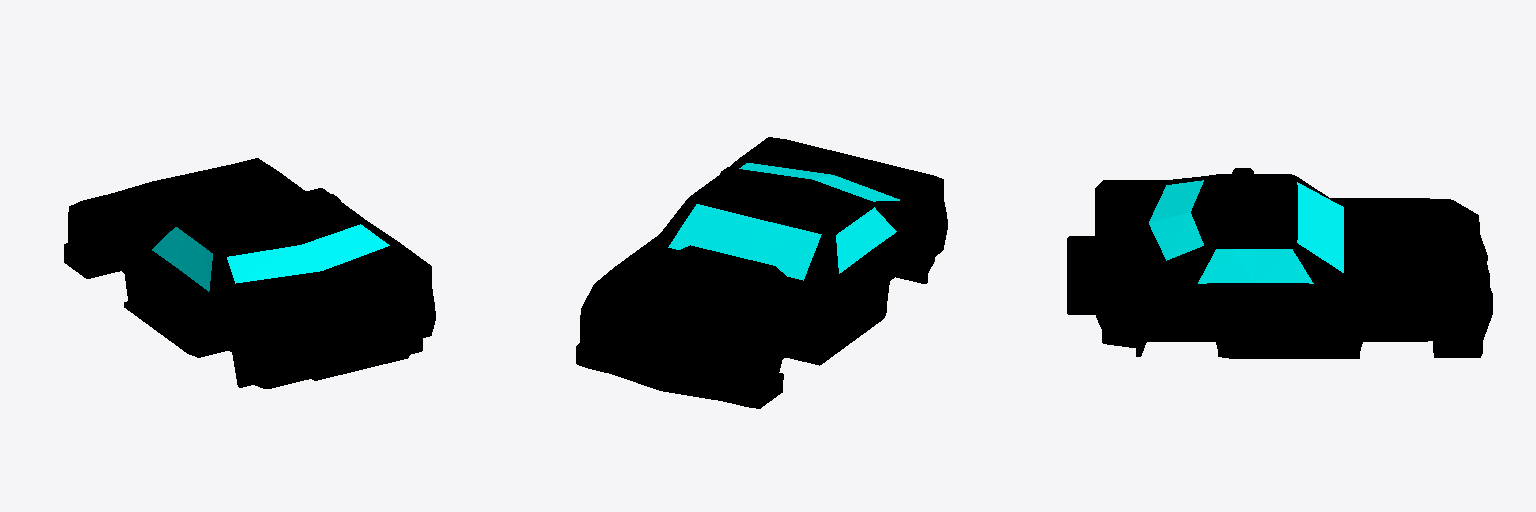
The model's file is policecarv4centerpivot.obj.
The picture shows the model from 3 angles: view 1: azimuth 30°, elevation 25°; view 2: azimuth 150°, elevation 25°; view 3: azimuth 270°, elevation 25°; orthographic projection.
Visible parts, largest first — view 1: policecarv2centerbotpivot:Chassis3; view 2: policecarv2centerbotpivot:Chassis3; view 3: policecarv2centerbotpivot:Chassis3.
Part boxes in pixels (x1,y1,x2,y2): policecarv2centerbotpivot:Chassis3: (64, 158, 435, 388); policecarv2centerbotpivot:Chassis3: (576, 137, 947, 408); policecarv2centerbotpivot:Chassis3: (1067, 168, 1492, 358).
Bounding box in the file's own units: 8.93 × 5.38 × 17.91.